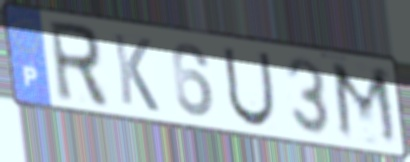3: (284, 55, 332, 139)
6: (169, 41, 218, 120)
K: (110, 30, 162, 115)
M: (328, 58, 403, 151)
R: (45, 18, 112, 112)
U: (220, 44, 277, 129)
